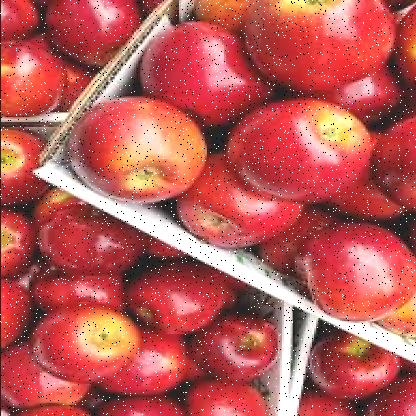apple: (148, 14, 264, 124), (260, 0, 395, 88), (302, 216, 412, 322), (83, 98, 206, 190), (250, 98, 364, 196), (189, 151, 296, 246), (38, 186, 152, 272), (36, 308, 140, 380), (45, 0, 146, 64), (98, 324, 188, 394), (304, 334, 399, 398), (142, 266, 233, 330), (197, 320, 283, 376), (5, 39, 64, 117)
